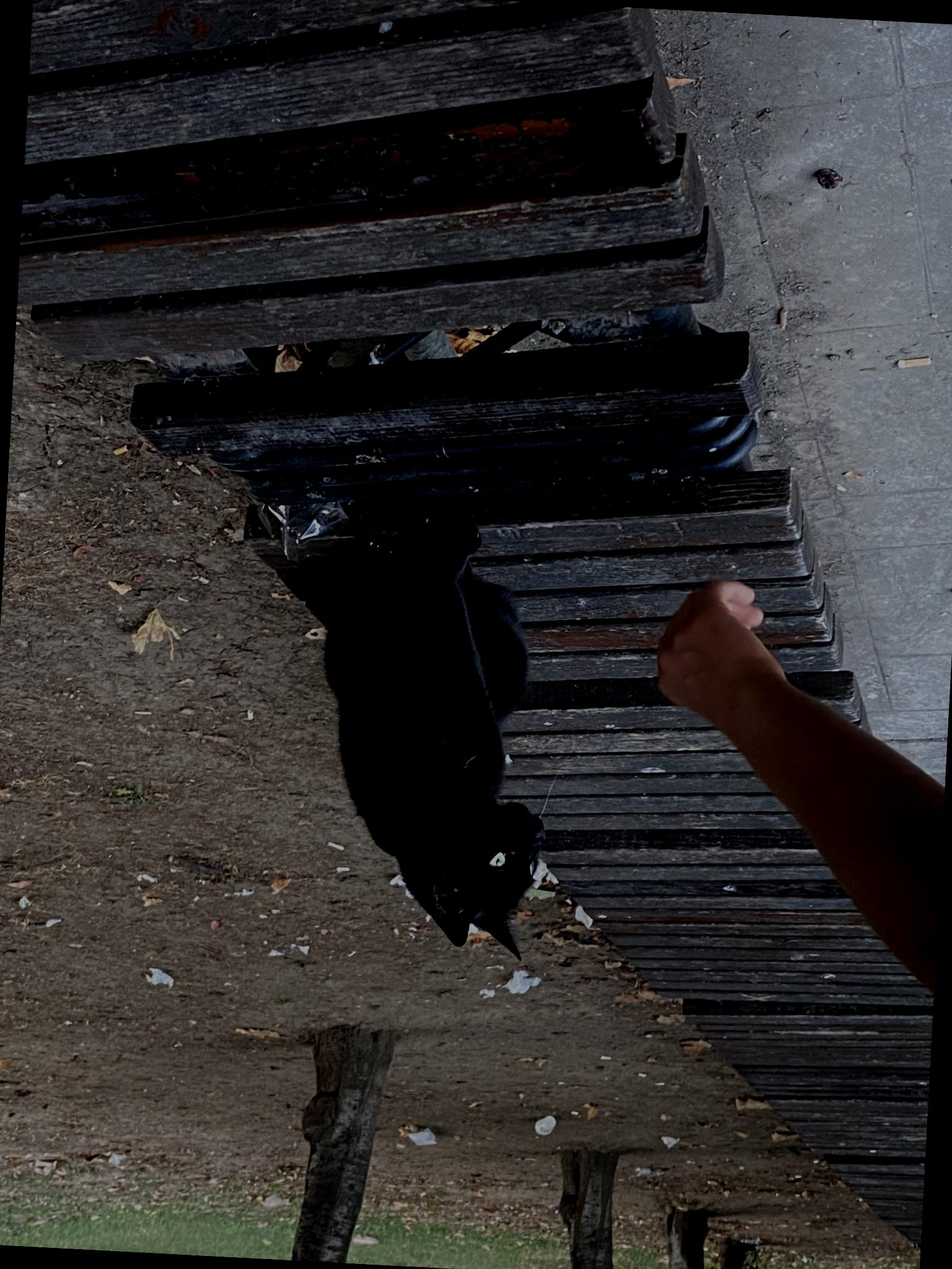macka: (309, 499, 564, 963)
